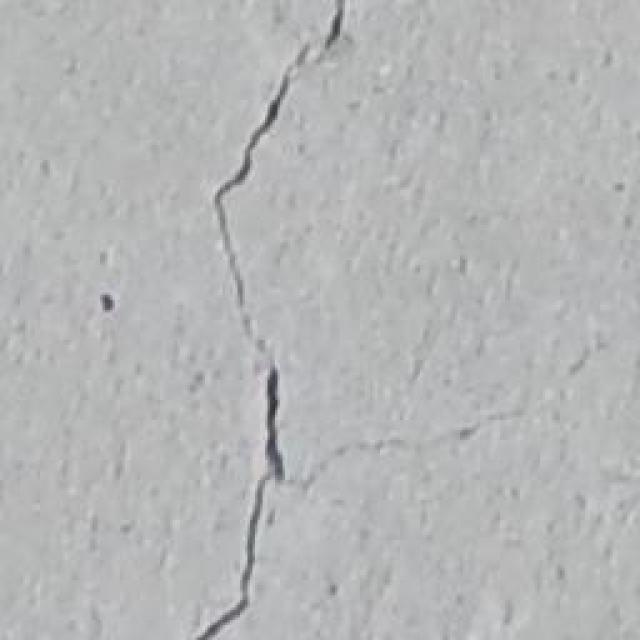concrete-crack: (190, 0, 349, 640)
